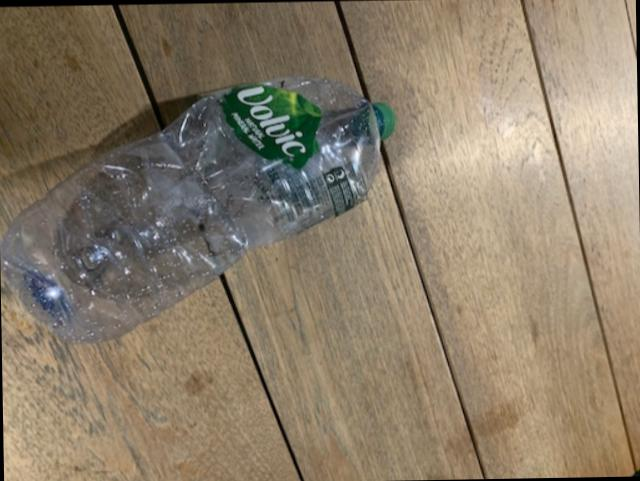plastic: (0, 75, 392, 338)
